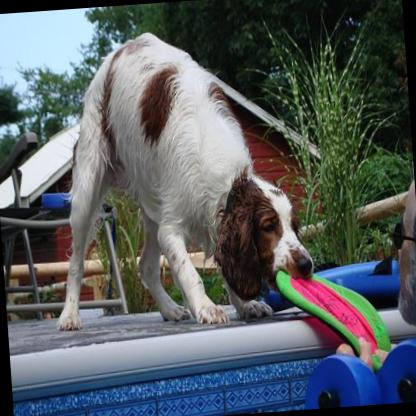Welsh_springer_spaniel: (37, 24, 318, 335)
